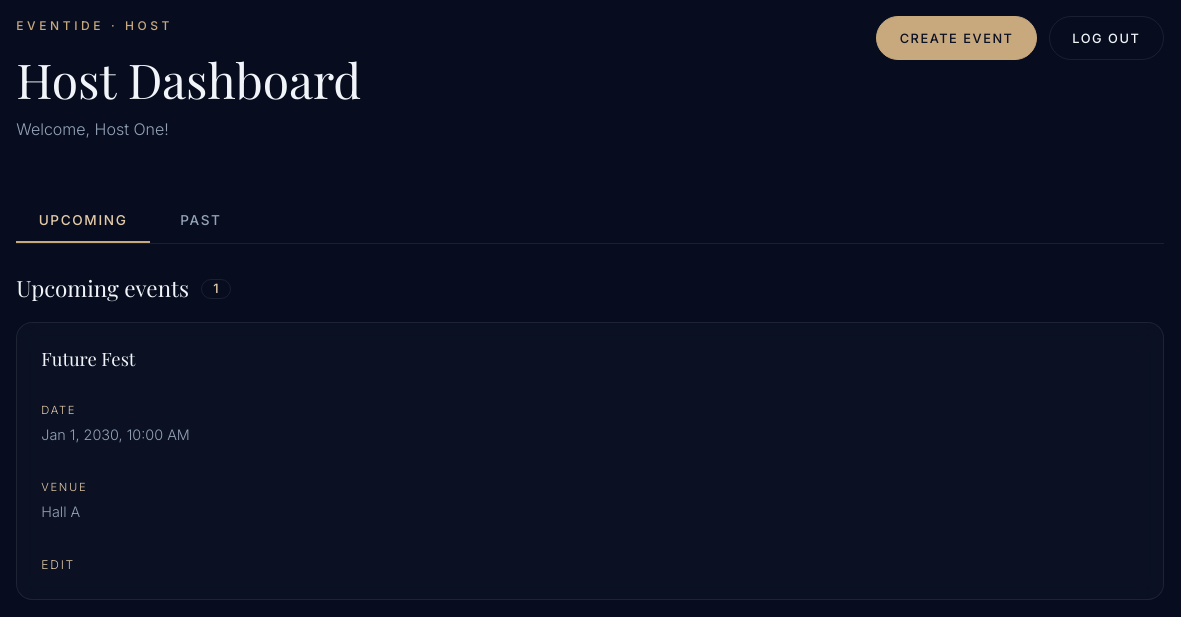
Scenario: EMS-FR-05 Host dashboard › shows Upcoming first and the Past list after switching tabs
Expected: the link "Future Fest" is shown, [41,346,135,370]
Expected: the text "Old Gala" is not shown
Click the tab "Past".
click(201, 221)  # box [158,199,244,243]
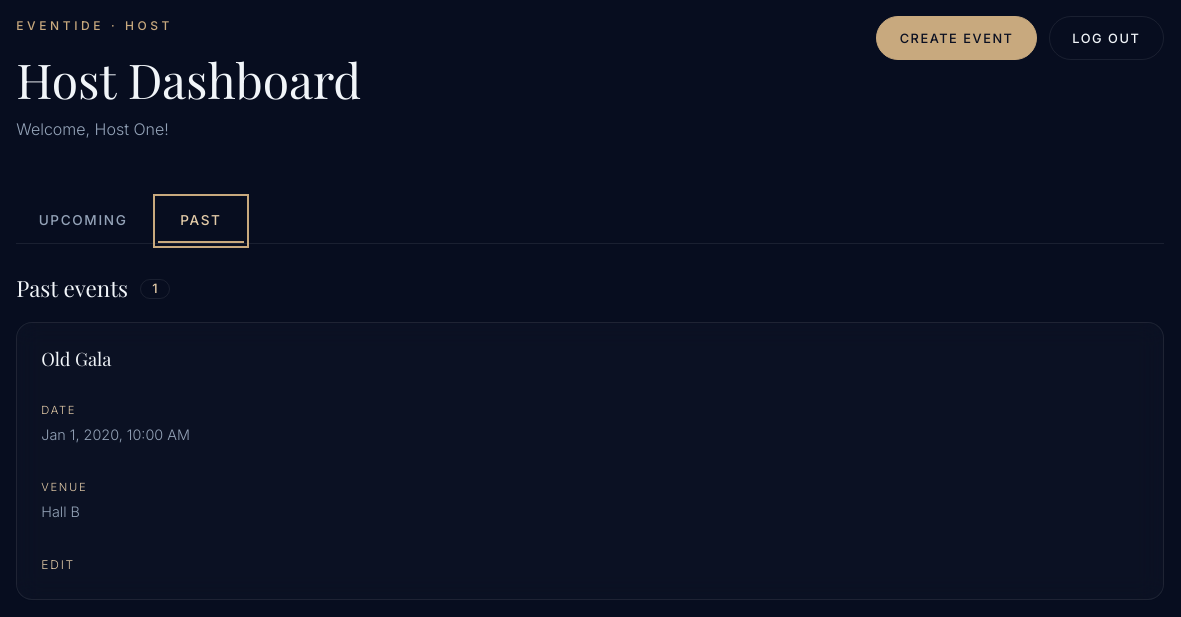
Expected: the link "Old Gala" is shown, [41,346,112,370]
Expected: the link "Future Fest" is gone
